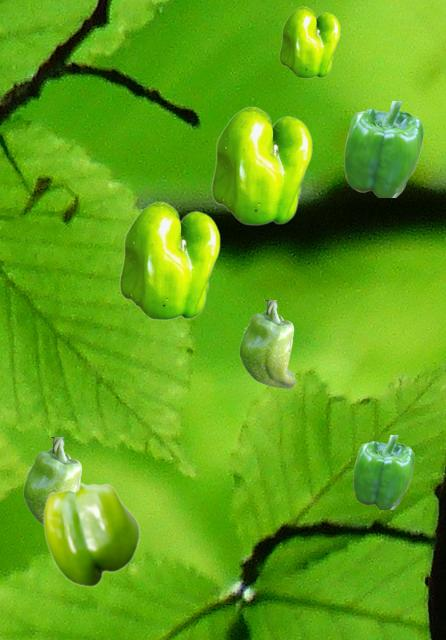bell_pepper: (211, 106, 311, 224), (119, 201, 219, 319), (43, 482, 139, 586), (344, 101, 422, 196), (23, 437, 82, 525), (239, 300, 294, 387), (353, 435, 413, 508), (279, 6, 339, 77)
